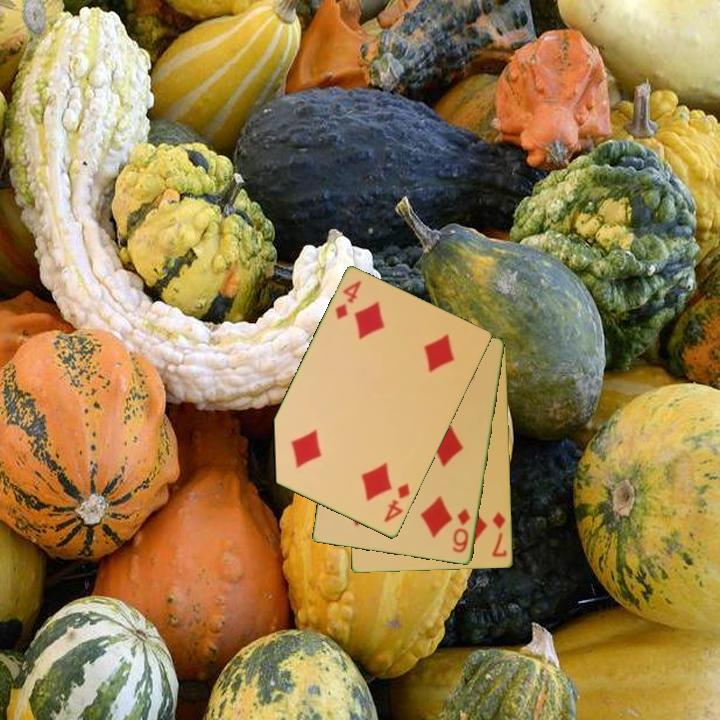4d: (381, 480, 413, 526), (332, 277, 364, 323)
6d: (449, 505, 474, 556)
7d: (489, 509, 510, 560)
